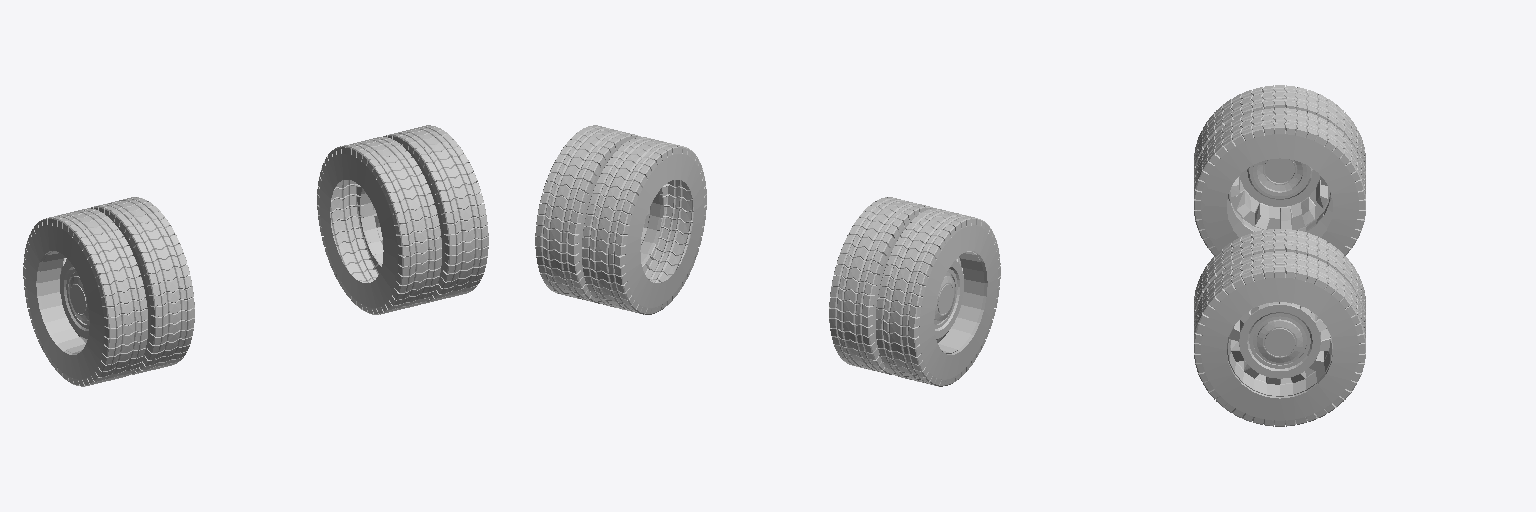
The model's file is TrailerWheels.obj.
3 views of the same model, side by side, from view 1: azimuth 30°, elevation 25°; view 2: azimuth 150°, elevation 25°; view 3: azimuth 270°, elevation 25° (orthographic).
Bounding box in the file's own units: 3.47 × 1.34 × 1.34.